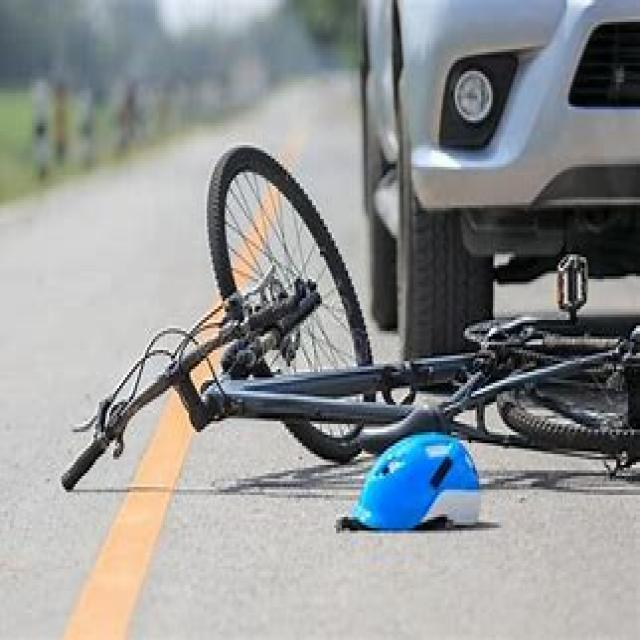Accident: (337, 57, 640, 569)
